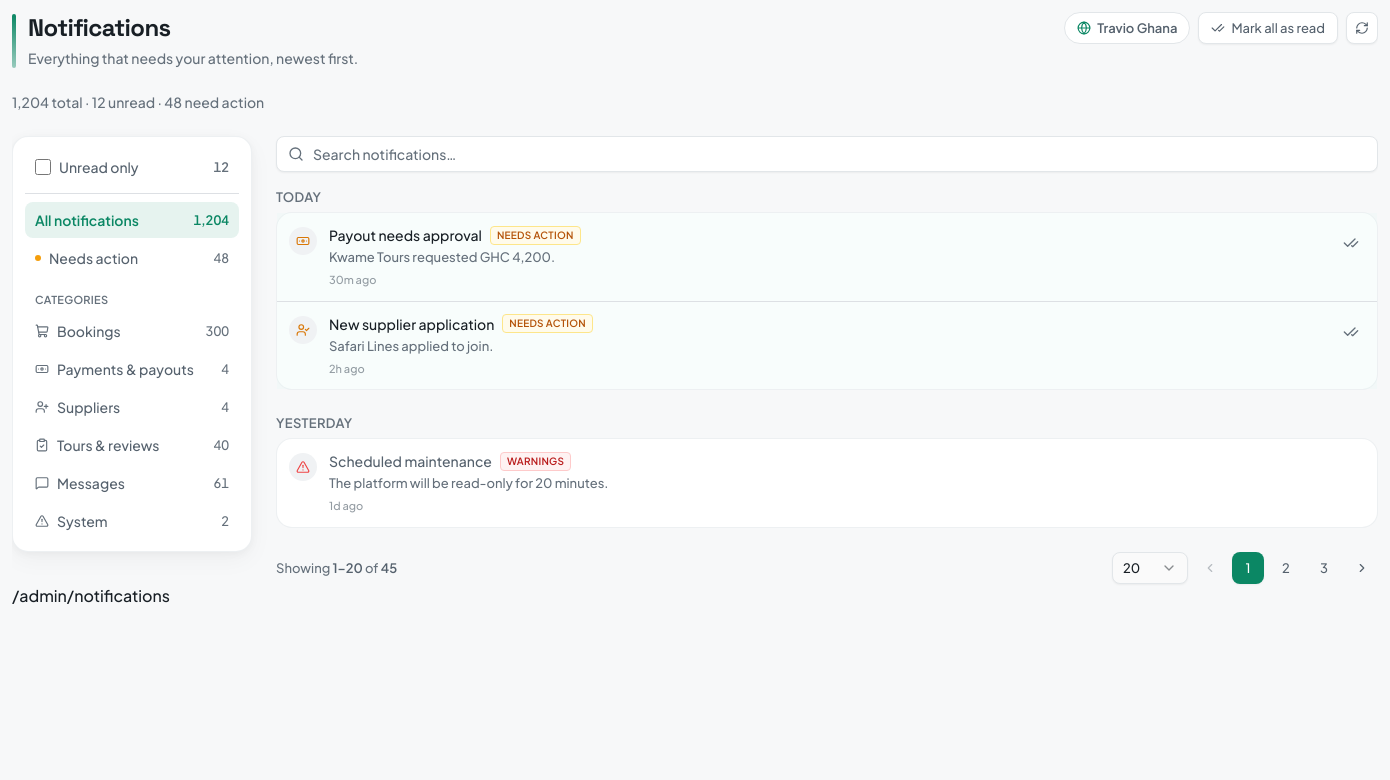
Test: NotificationsPage › navigates to the notification's destination when a row is opened
Click the text "Payout needs approval".
click(405, 235)  # box x1=329 y1=225 x2=482 y2=245
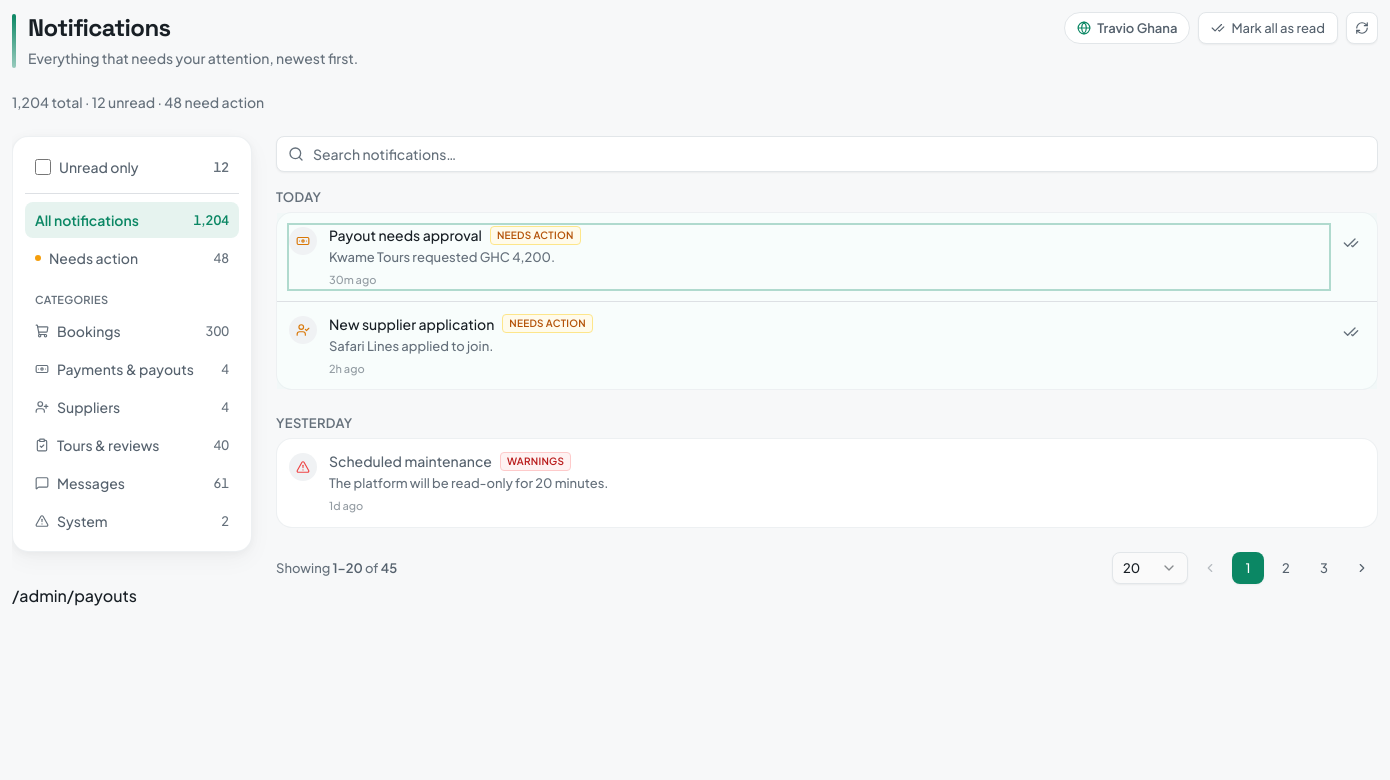
Expected: the text with test id "location" reads "/admin/payouts", x1=12 y1=585 x2=137 y2=606
